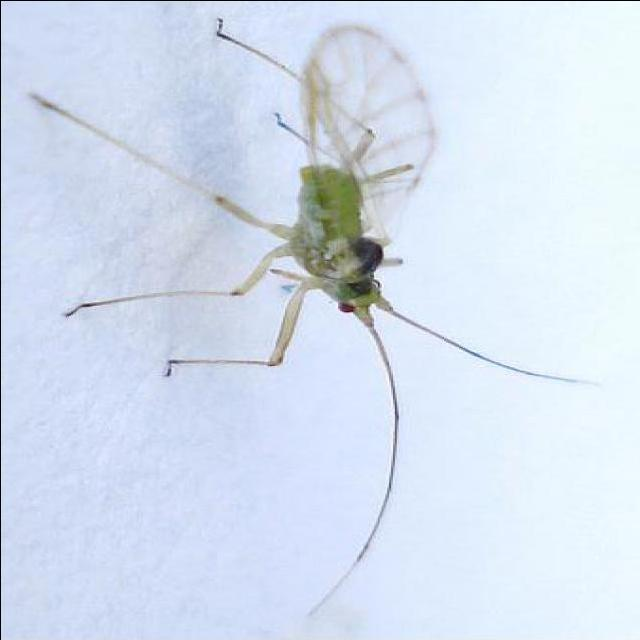aphid: (145, 49, 456, 463)
